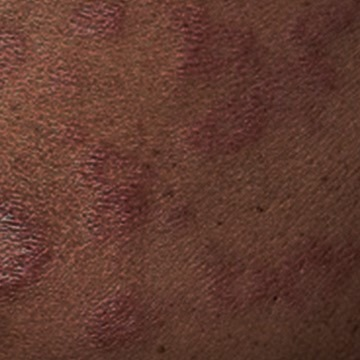Leprosy: (152, 3, 359, 163), (187, 228, 359, 329), (71, 134, 165, 241), (77, 280, 174, 359), (0, 191, 59, 305)
